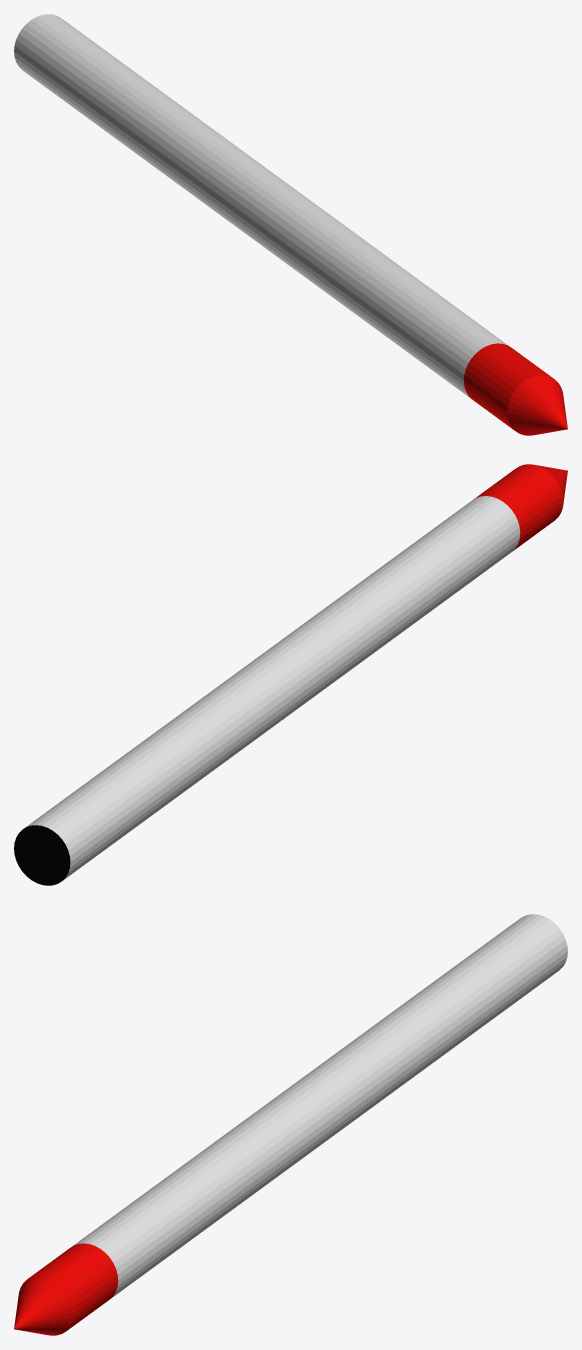
Rendered from rocket.glb.
3 renders of one model, top to bottom at view 1: azimuth 30°, elevation 25°; view 2: azimuth 150°, elevation 25°; view 3: azimuth 330°, elevation 25°, orthographic.
Parts seen in each view (by area): view 1: Cylinder; view 2: Cylinder; view 3: Cylinder.
Boxes of the visible parts, bbox=[...] form: Cylinder: bbox=[14, 14, 567, 435]; Cylinder: bbox=[14, 464, 567, 885]; Cylinder: bbox=[14, 914, 567, 1335].
Size of the model in its own units: 0.0988 by 0.0988 by 1.59.
